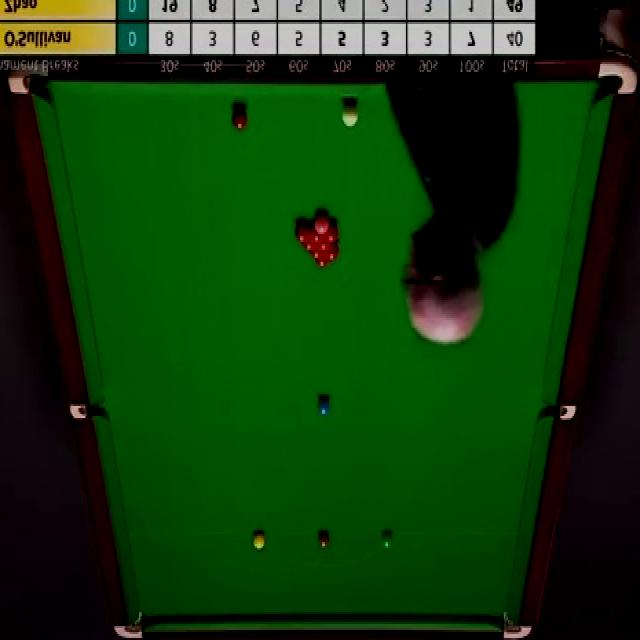blue-ball: (318, 393, 331, 417)
brown-ball: (317, 531, 330, 548)
green-ball: (382, 528, 396, 552)
pink-ball: (314, 210, 330, 236)
red-ball: (231, 106, 248, 132), (294, 221, 310, 244), (309, 223, 324, 246), (324, 222, 340, 242), (324, 243, 340, 262), (316, 236, 333, 250), (310, 247, 326, 260), (315, 256, 330, 268), (303, 241, 316, 250)
white-ball: (342, 98, 361, 128)
yellow-ball: (252, 530, 266, 551)
